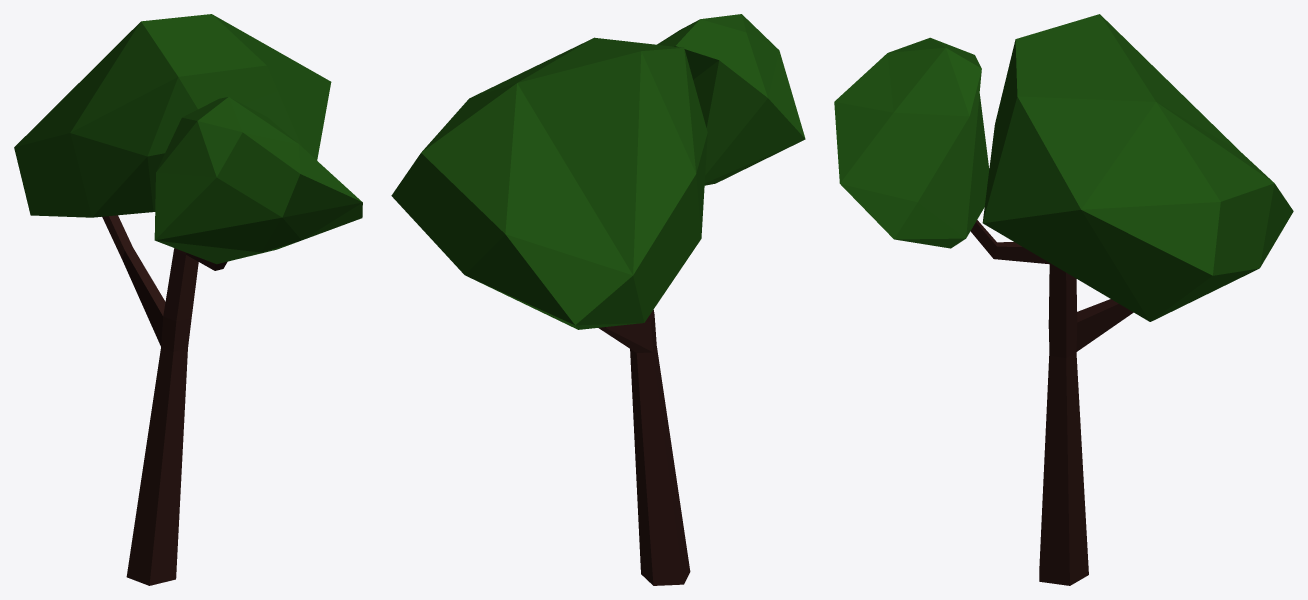
Rendered from default_tree.obj.
The picture shows the model from 3 angles, left to right: view 1: azimuth 30°, elevation 25°; view 2: azimuth 150°, elevation 25°; view 3: azimuth 270°, elevation 25°; orthographic projection. The views are drawn at different scales.
Parts seen in each view (by area): view 1: tree2; view 2: tree2; view 3: tree2.
Part boxes in pixels (box(x1,y1,x2,y2)): tree2: box(14, 14, 362, 585); tree2: box(391, 14, 805, 585); tree2: box(834, 14, 1293, 585).
Bounding box in the file's own units: 1.38 × 2.61 × 1.93.
